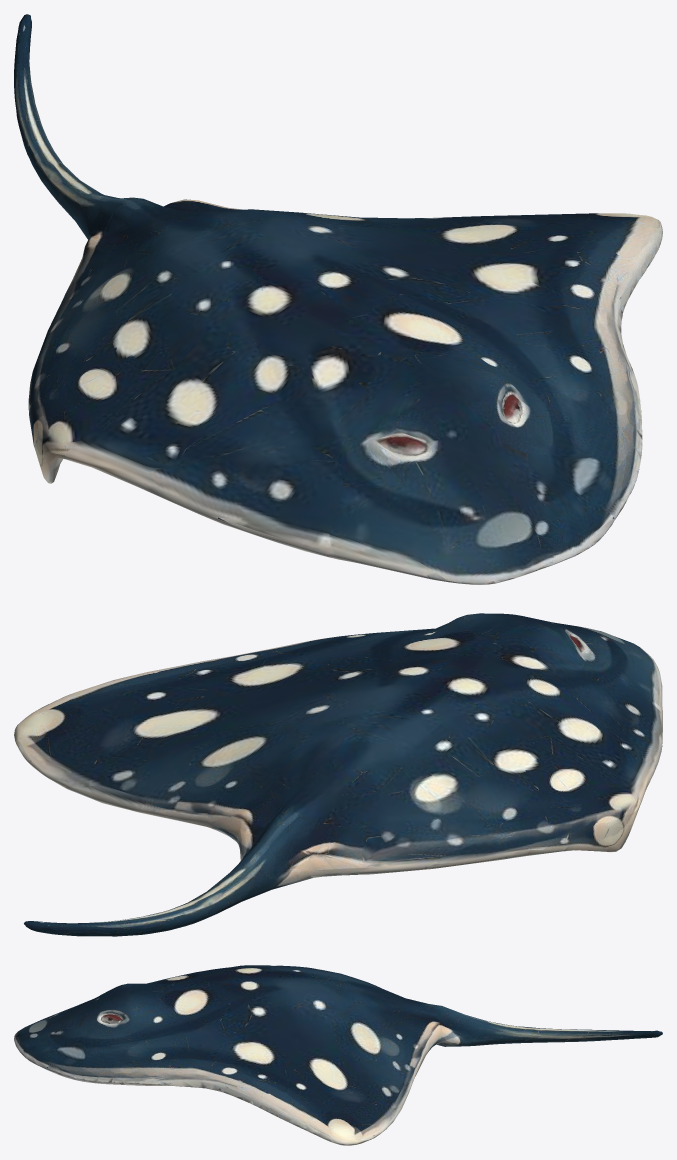
Rendered from ray.glb.
The picture shows the model from 3 angles, top to bottom: view 1: azimuth 30°, elevation 25°; view 2: azimuth 150°, elevation 25°; view 3: azimuth 270°, elevation 25°; orthographic projection. The views are drawn at different scales.
Bounding box in the file's own units: 1.28 × 0.2648 × 2.
Materials: 1 (1 with a texture image).
